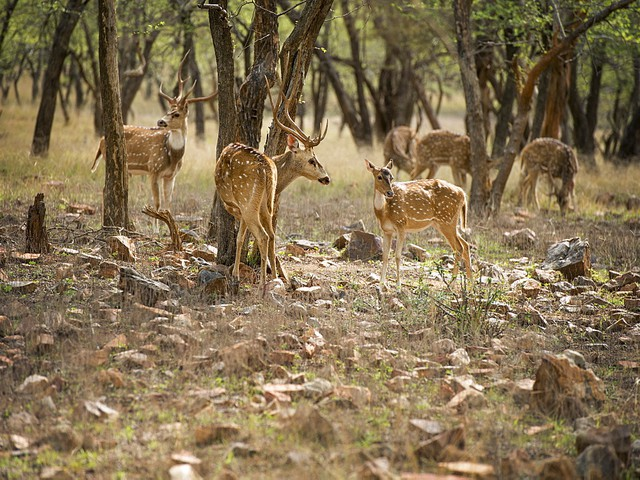deer: (216, 74, 333, 287), (363, 148, 483, 286), (124, 59, 211, 223), (518, 128, 581, 223)
